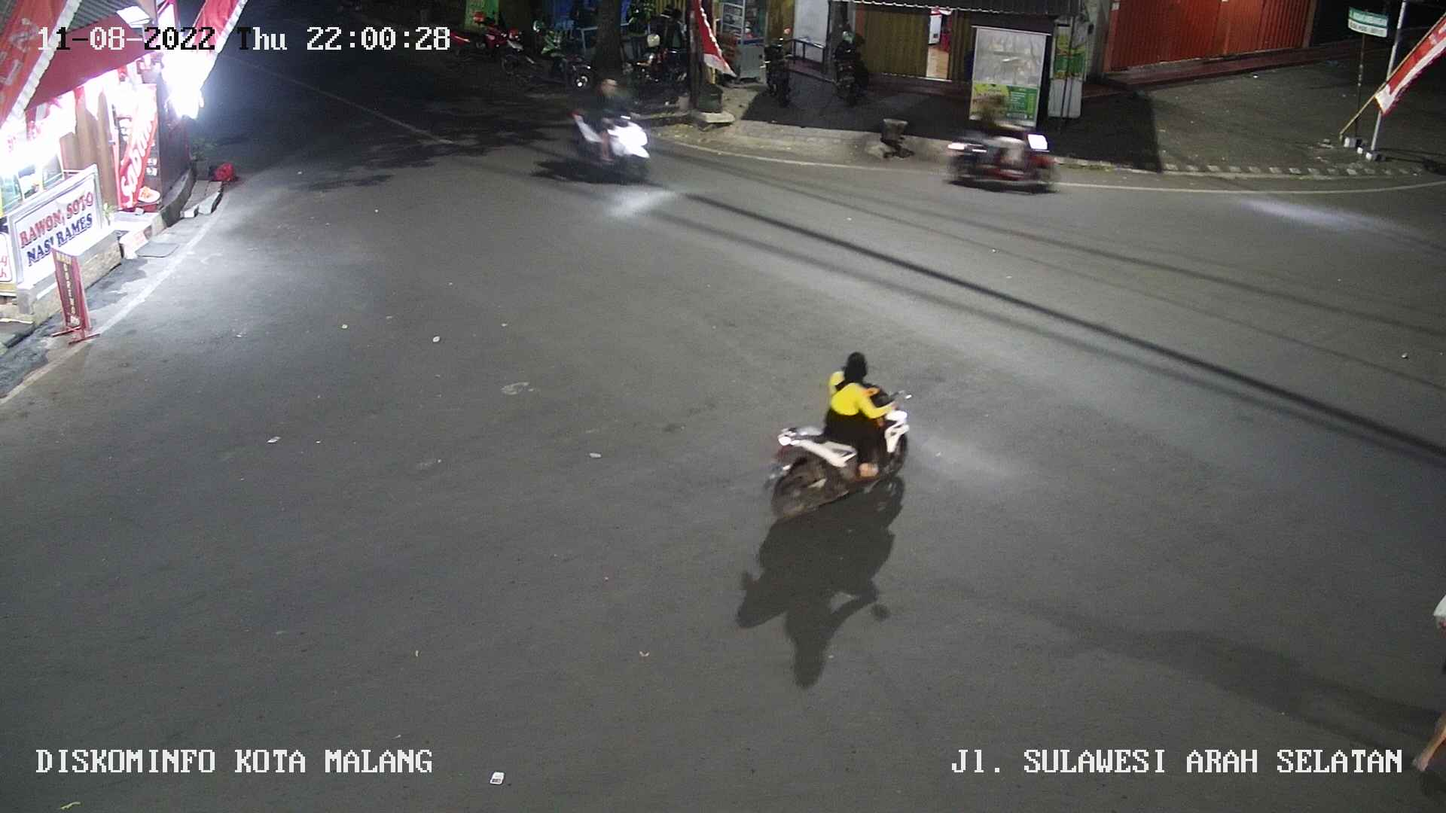without_helmet: (750, 324, 927, 549), (558, 59, 670, 195)
